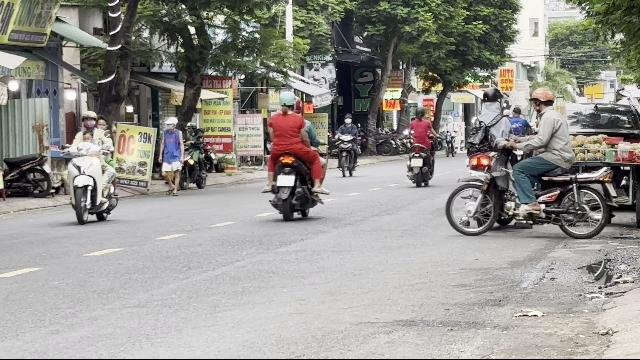helmet: (529, 88, 555, 112), (480, 86, 502, 114), (278, 90, 296, 112), (80, 109, 98, 130)
licenseplate: (278, 174, 294, 185)
motorcyclist: (444, 85, 634, 238), (260, 90, 328, 220), (64, 110, 120, 224)
nohelmet: (81, 130, 95, 144), (96, 114, 108, 130)
